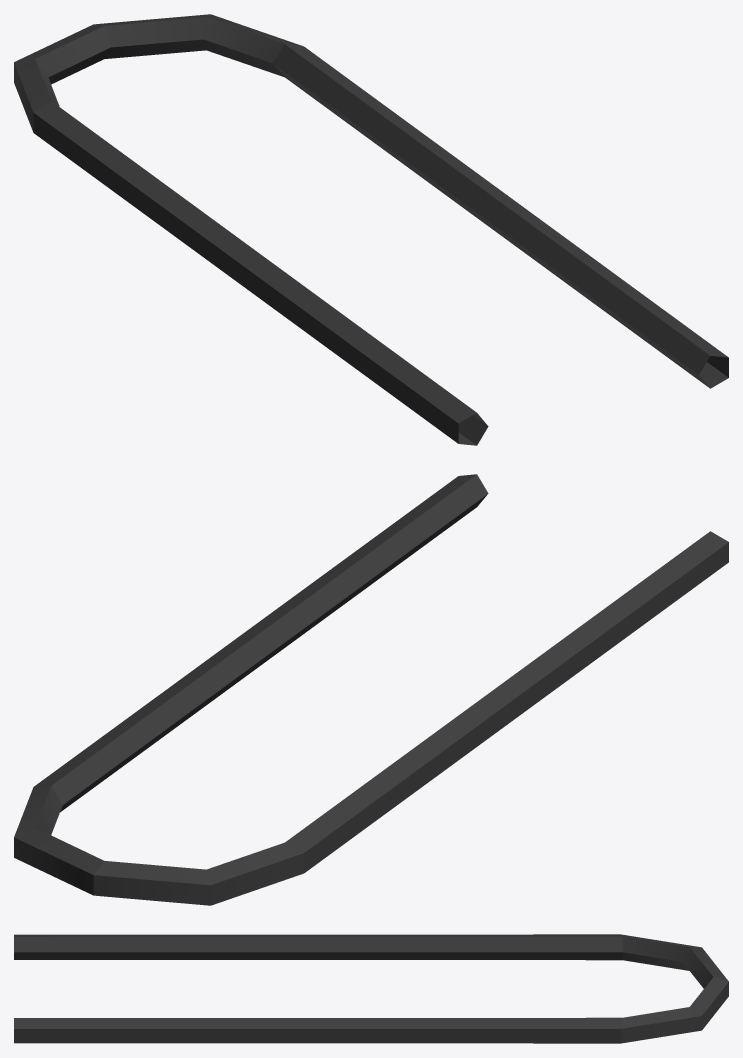
File: CableA.obj
3 renders of one model, top to bottom at view 1: azimuth 30°, elevation 25°; view 2: azimuth 150°, elevation 25°; view 3: azimuth 270°, elevation 25°, orthographic. The views are drawn at different scales.
Size of the model in its own units: 0.6249 by 0.0734 by 2.
Materials: 1 (1 with a texture image).
